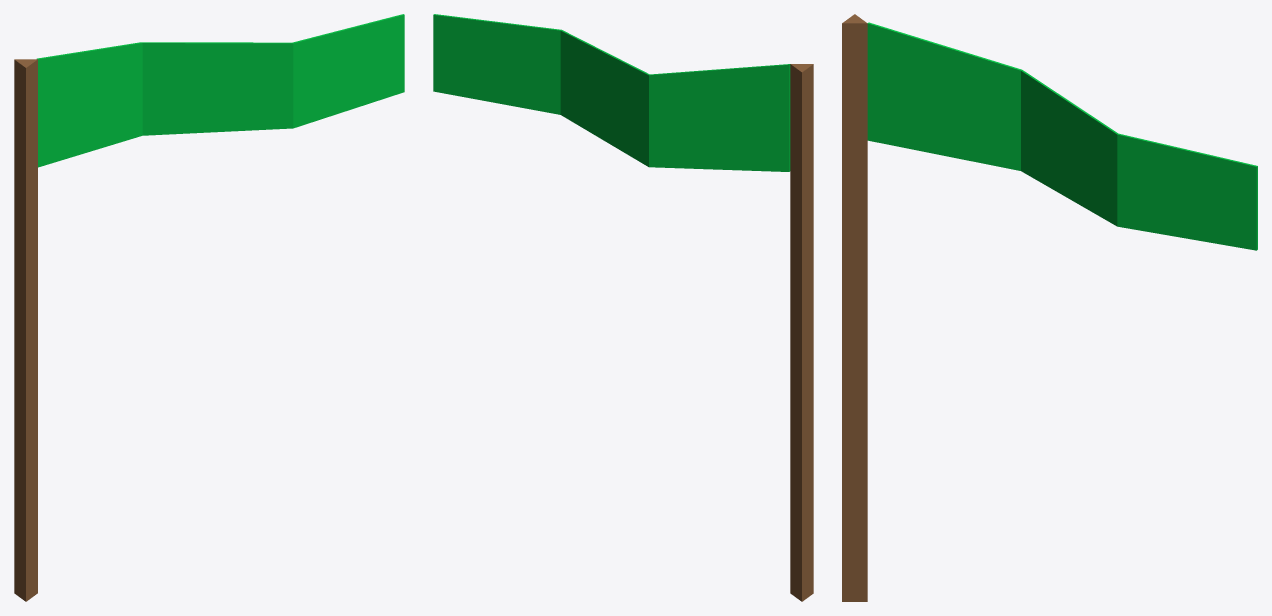
The model's file is Player_flag_green_1_mat.fbx.
The picture shows the model from 3 angles, left to right: view 1: azimuth 30°, elevation 25°; view 2: azimuth 150°, elevation 25°; view 3: azimuth 330°, elevation 25°; orthographic projection. The views are drawn at different scales.
Parts seen in each view (by area): view 1: Player_flag_green_1_mat; view 2: Player_flag_green_1_mat; view 3: Player_flag_green_1_mat.
Boxes of the visible parts, x1,y1,x2,y2 form: Player_flag_green_1_mat: [14, 14, 404, 601]; Player_flag_green_1_mat: [433, 14, 813, 601]; Player_flag_green_1_mat: [842, 14, 1257, 601].
Size of the model in its own units: 0.61 by 0.8178 by 0.0894.
